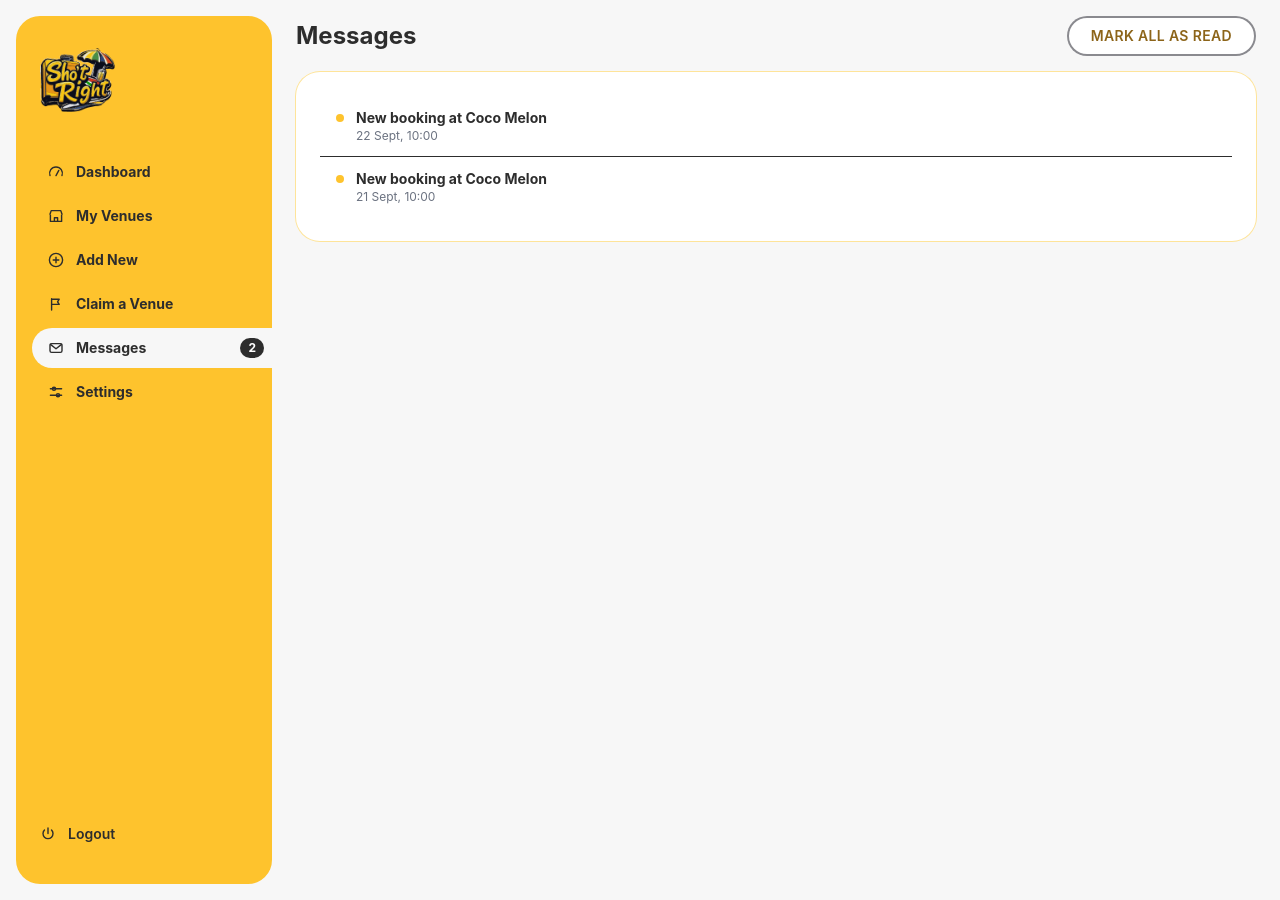
Test case: the Messages panel › marks everything read in one go
Click the button "Mark all as read" at (1161,36), box [1067,16,1256,56]
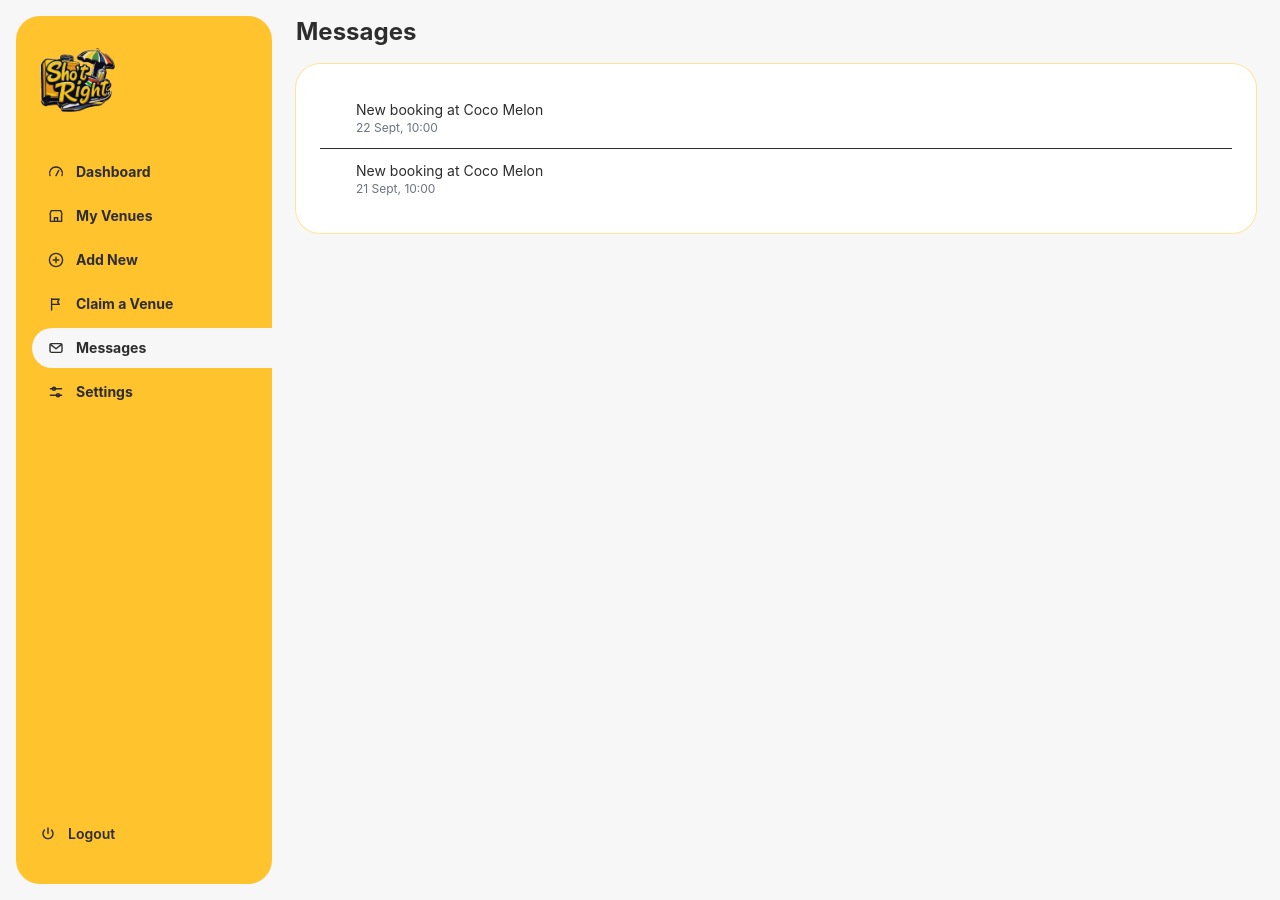
Expected: the button "Mark all as read" is gone
